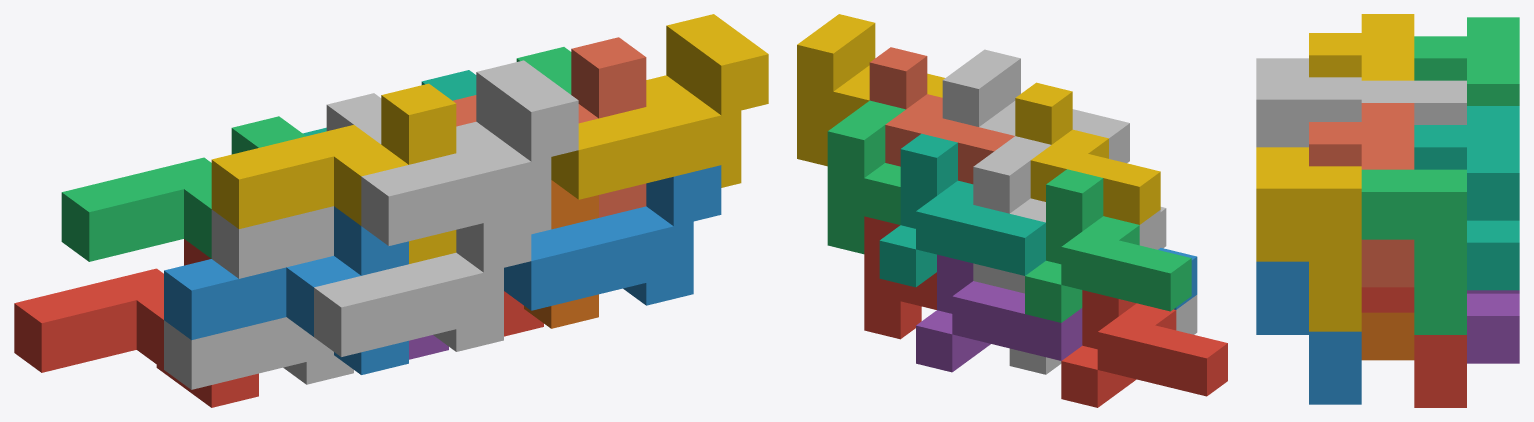
File: tiling.obj
3 renders of one model, left to right at view 1: azimuth 30°, elevation 25°; view 2: azimuth 150°, elevation 25°; view 3: azimuth 270°, elevation 25°, orthographic. The views are drawn at different scales.
Visible parts, largest first — view 1: copy_2_domain_4, copy_2_domain_8, copy_1_domain_4, copy_2_domain_2, copy_2_domain_6, copy_1_domain_2, copy_1_domain_1, copy_1_domain_3, copy_2_domain_1, copy_2_domain_3, copy_1_domain_8, copy_1_domain_6 (+4 smaller); view 2: copy_1_domain_3, copy_1_domain_7, copy_1_domain_1, copy_1_domain_5, copy_1_domain_4, copy_2_domain_8, copy_2_domain_7, copy_1_domain_8, copy_2_domain_4, copy_2_domain_3, copy_2_domain_5, copy_2_domain_1 (+1 smaller); view 3: copy_2_domain_8, copy_2_domain_7, copy_1_domain_7, copy_1_domain_8, copy_2_domain_6, copy_2_domain_4, copy_1_domain_3, copy_1_domain_4, copy_2_domain_5, copy_1_domain_5, copy_2_domain_3, copy_1_domain_6.
Boxes of the visible parts, x1,y1,x2,y2 form: copy_2_domain_4: (361,60,578,245); copy_2_domain_8: (551,14,768,199); copy_1_domain_4: (211,83,456,263); copy_2_domain_2: (314,211,531,356); copy_2_domain_6: (504,165,721,310); copy_1_domain_2: (164,206,408,374); copy_1_domain_1: (14,239,258,407); copy_1_domain_3: (61,116,305,261); copy_2_domain_1: (164,317,353,389); copy_2_domain_3: (211,93,381,278); copy_1_domain_8: (453,37,646,217); copy_1_domain_6: (524,180,598,328); copy_1_domain_3: (1025,169,1191,322); copy_1_domain_7: (879,133,1045,287); copy_1_domain_1: (1061,290,1227,407); copy_1_domain_5: (916,254,1082,372); copy_1_domain_4: (1015,82,1160,224); copy_2_domain_8: (797,14,944,166); copy_2_domain_7: (827,100,905,254); copy_1_domain_8: (869,47,1014,184); copy_2_domain_4: (942,49,1129,163); copy_2_domain_3: (973,136,1160,289); copy_2_domain_5: (864,216,936,339); copy_2_domain_1: (1009,272,1197,374); copy_2_domain_8: (1256,147,1361,331); copy_2_domain_7: (1361,169,1466,334); copy_1_domain_7: (1414,106,1519,290); copy_1_domain_8: (1309,103,1414,287); copy_2_domain_6: (1256,261,1361,404); copy_2_domain_4: (1256,58,1361,147); copy_1_domain_3: (1414,17,1519,105); copy_1_domain_4: (1309,14,1414,80); copy_2_domain_5: (1361,287,1466,407); copy_1_domain_5: (1467,290,1519,363); copy_2_domain_3: (1361,80,1466,124); copy_1_domain_6: (1361,312,1414,360).
Size of the model in its own units: 13 by 6 by 5.
